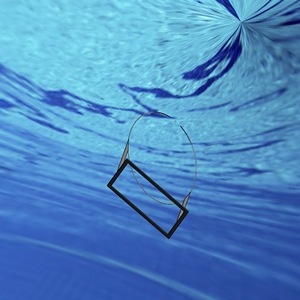circle: (106, 109, 200, 238)
